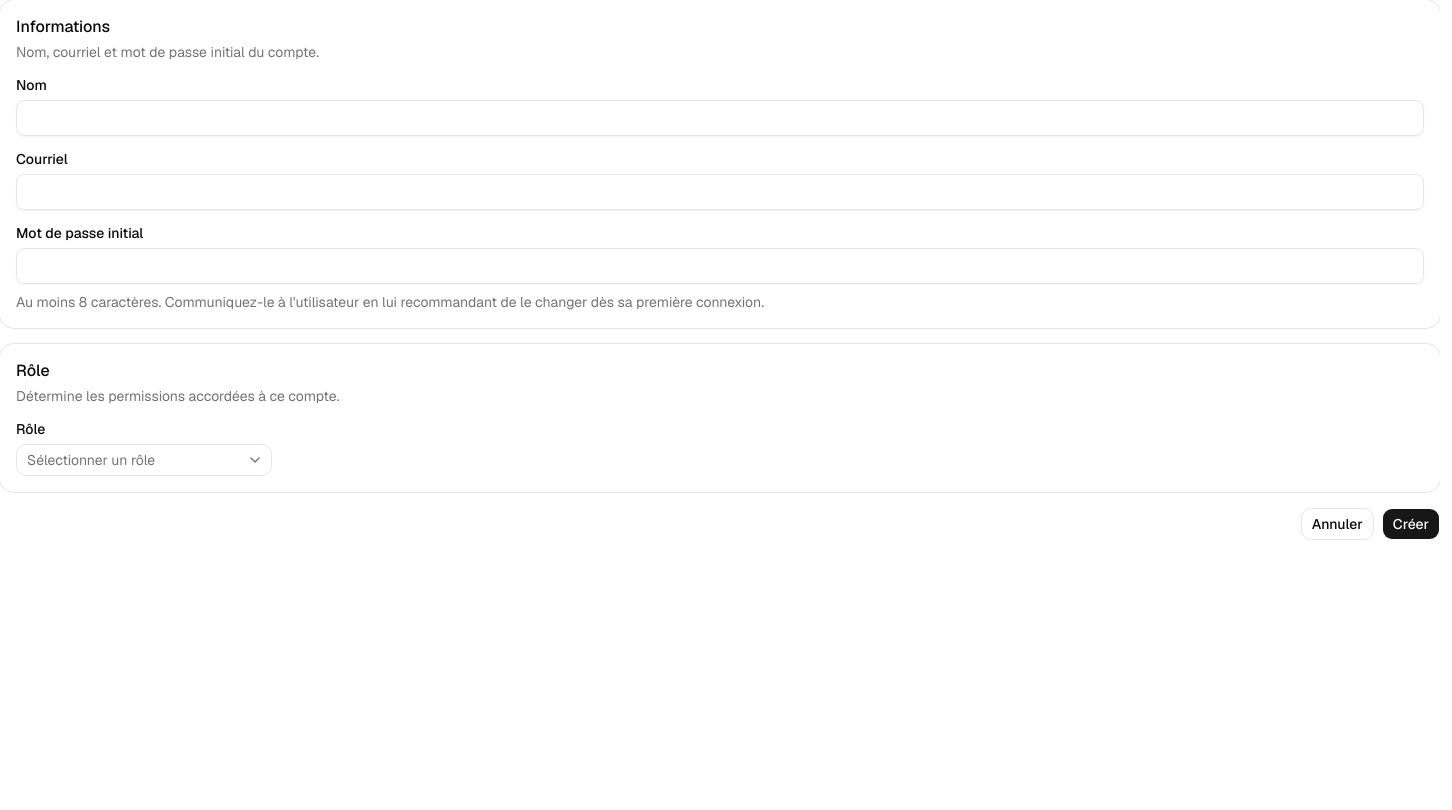
Test: UserCreateForm › affiche une erreur de validation si le mot de passe est trop court
Type "Nouvelle Personne" into the field labelled "Nom".
click(720, 118); type("Nouvelle Personne")  # box [16,100,1424,136]
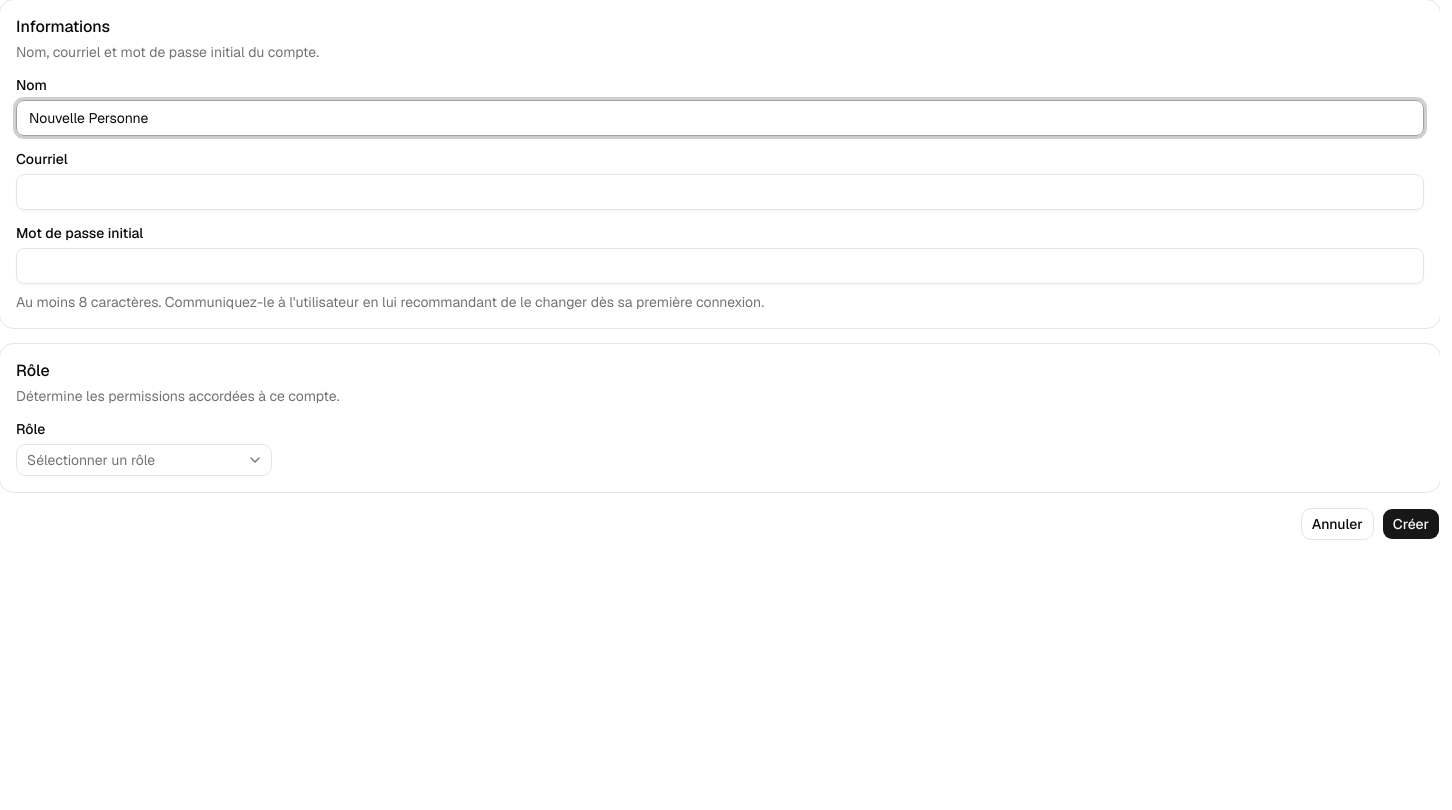
Type "nouvelle@exemple.com" into the field labelled "Courriel".
click(720, 192); type("nouvelle@exemple.com")  # box [16,174,1424,210]
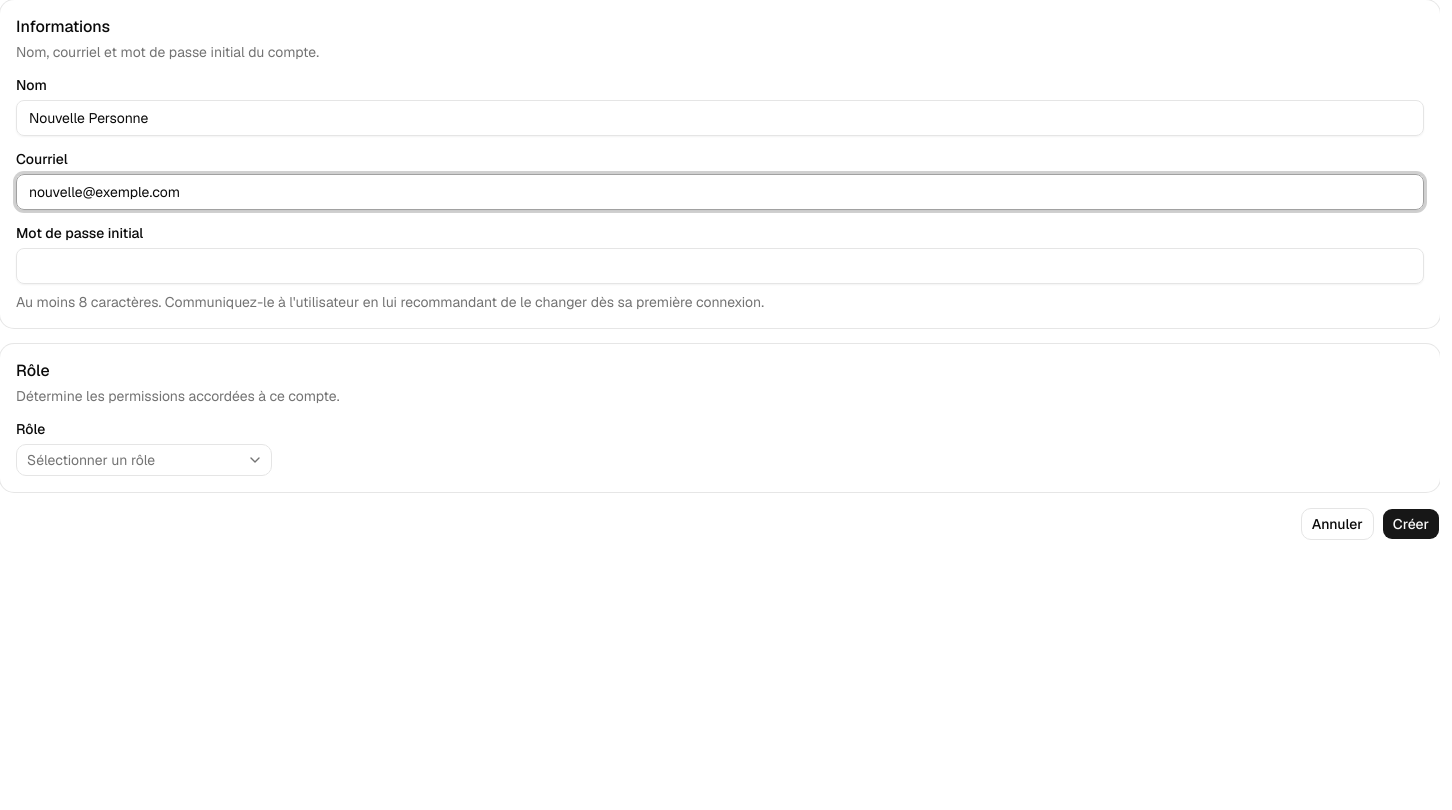
Type "court1" into the password field labelled "Mot de passe initial".
click(720, 266); type("court1")  # box [16,248,1424,284]
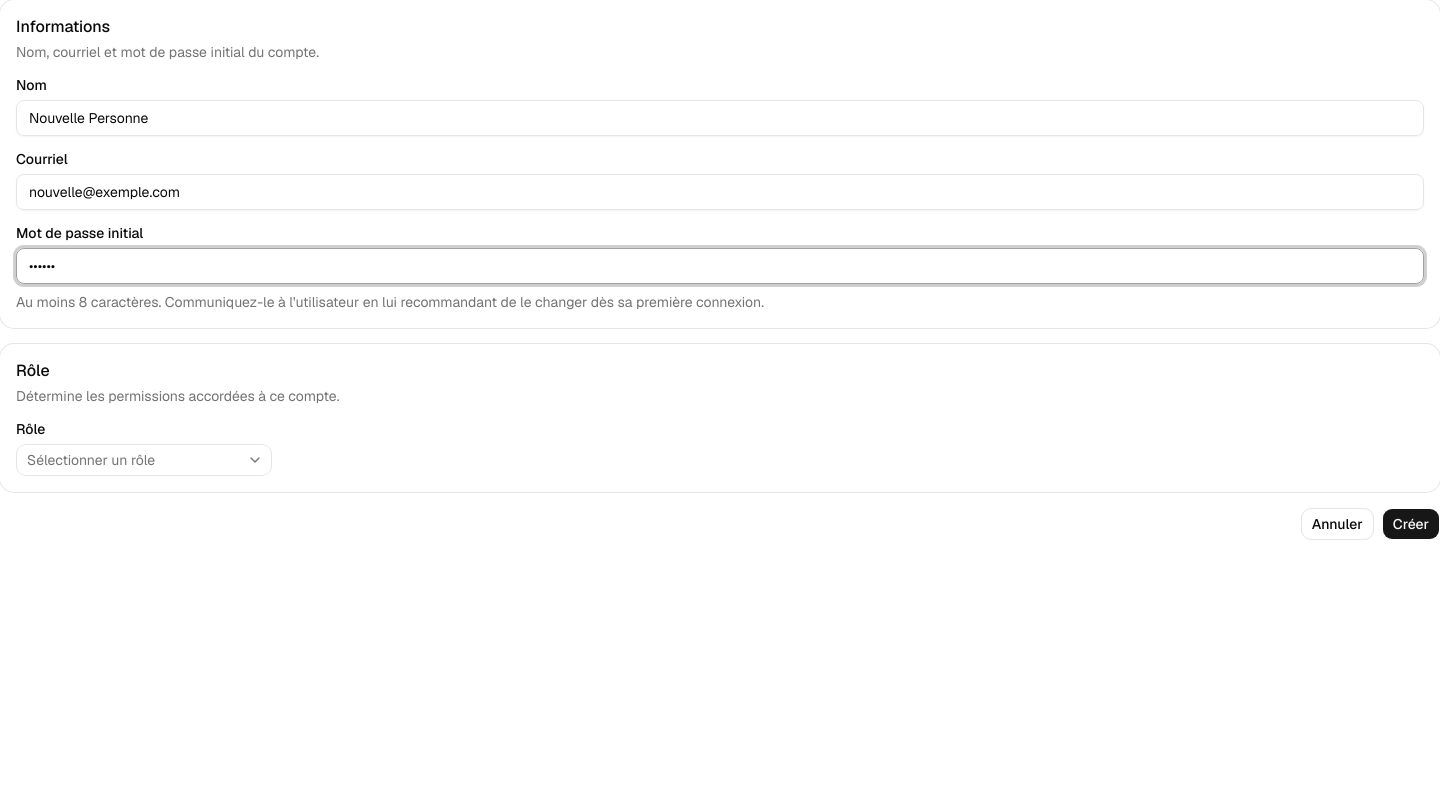
Click the button "Créer".
click(1411, 524)  # box [1382,508,1440,540]
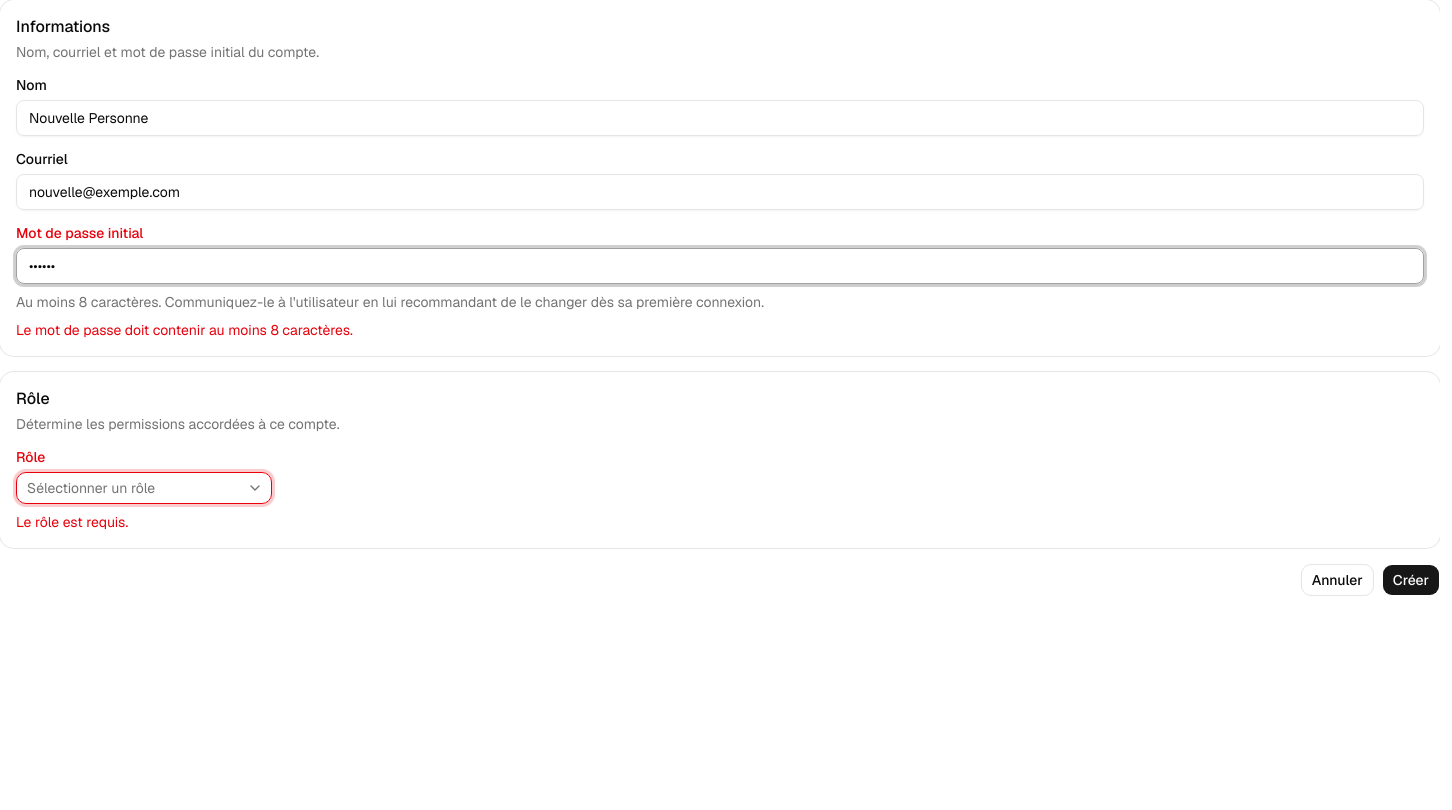
Expected: the text "Le mot de passe doit contenir au moins 8 caractères." is shown, [16,321,353,339]
